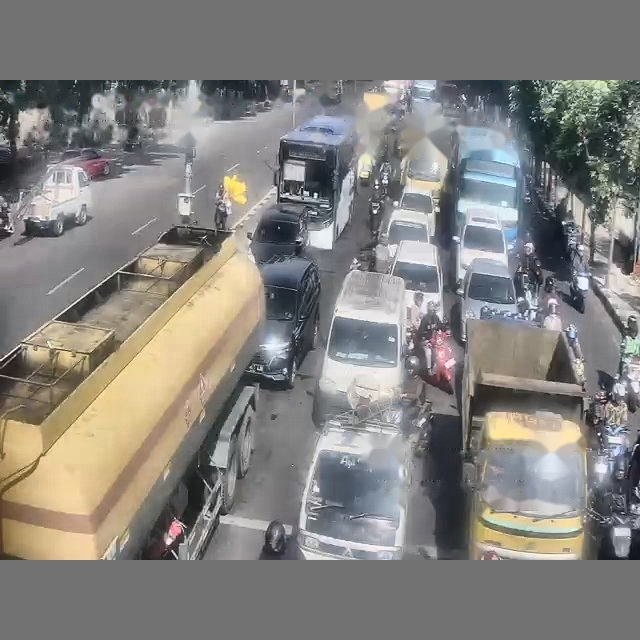Bis: (276, 115, 357, 249)
Mobil: (296, 418, 409, 559), (245, 256, 320, 388), (457, 258, 521, 342), (390, 241, 443, 319), (452, 212, 508, 285), (247, 204, 308, 263), (380, 209, 431, 257), (393, 190, 434, 228), (60, 148, 111, 178)
Motor: (569, 271, 589, 312), (369, 198, 382, 234), (214, 199, 229, 230)
Truk: (0, 225, 264, 559), (461, 319, 593, 559)
